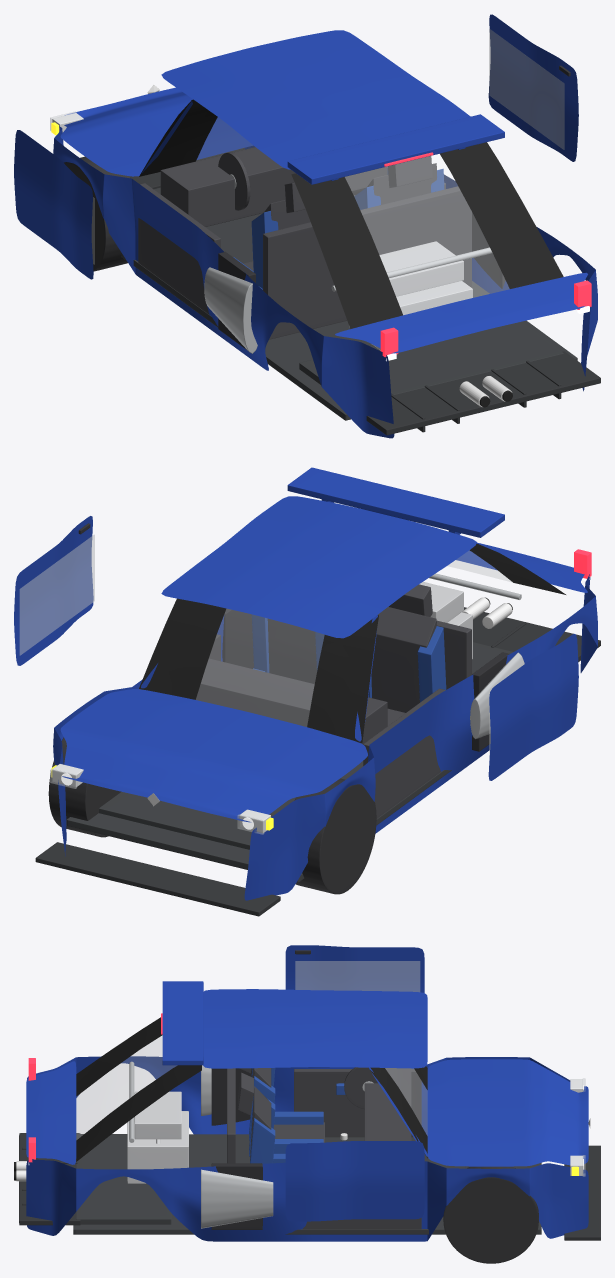
The model's file is Car_Renault_Clio_V6_Phase2_Complete.glb.
The picture shows the model from 3 angles, top to bottom: view 1: azimuth 30°, elevation 25°; view 2: azimuth 150°, elevation 25°; view 3: azimuth 270°, elevation 25°; orthographic projection. The views are drawn at different scales.
Visible parts, largest first — view 1: BODY_ClioV6_Unibody, GLASS_ClioV6_Greenhouse, INTERIOR_ClioV6_Cockpit, CHASSIS_ClioV6_Platform_Subframe, DOOR_FL_ClioV6, AERO_ClioV6_DiffusersAndSplitters, DOOR_FR_ClioV6, AERO_ClioV6_RoofSpoiler, DOOR_FL_ClioV6_WindowGlass, POWERTRAIN_ClioV6_30L_V6, DOOR_FR_ClioV6_InnerCard, LIGHTING_ClioV6_OpticsAndJewelry (+2 smaller); view 2: BODY_ClioV6_Unibody, GLASS_ClioV6_Greenhouse, INTERIOR_ClioV6_Cockpit, CHASSIS_ClioV6_Platform_Subframe, DOOR_FR_ClioV6, AERO_ClioV6_DiffusersAndSplitters, DOOR_FL_ClioV6, AERO_ClioV6_RoofSpoiler, WHEEL_RL_OZSuperturismo, DOOR_FL_ClioV6_WindowGlass, DOOR_FR_ClioV6_InnerCard, LIGHTING_ClioV6_OpticsAndJewelry (+2 smaller); view 3: BODY_ClioV6_Unibody, DOOR_FL_ClioV6, GLASS_ClioV6_Greenhouse, CHASSIS_ClioV6_Platform_Subframe, INTERIOR_ClioV6_Cockpit, WHEEL_RR_OZSuperturismo, DOOR_FR_ClioV6, POWERTRAIN_ClioV6_30L_V6, DOOR_FR_ClioV6_InnerCard, DOOR_FR_ClioV6_WindowGlass, AERO_ClioV6_RoofSpoiler, AERO_ClioV6_DiffusersAndSplitters (+3 smaller).
Part boxes in pixels (x1,y1,x2,y2): BODY_ClioV6_Unibody: [53, 30, 597, 438]; GLASS_ClioV6_Greenhouse: [139, 99, 563, 328]; INTERIOR_ClioV6_Cockpit: [160, 147, 471, 339]; CHASSIS_ClioV6_Platform_Subframe: [121, 187, 577, 420]; DOOR_FL_ClioV6: [488, 14, 578, 161]; AERO_ClioV6_DiffusersAndSplitters: [129, 148, 600, 435]; DOOR_FR_ClioV6: [14, 130, 93, 279]; AERO_ClioV6_RoofSpoiler: [287, 114, 504, 184]; DOOR_FL_ClioV6_WindowGlass: [489, 29, 564, 149]; POWERTRAIN_ClioV6_30L_V6: [331, 241, 492, 350]; DOOR_FR_ClioV6_InnerCard: [138, 183, 220, 314]; LIGHTING_ClioV6_OpticsAndJewelry: [50, 84, 591, 407]; BODY_ClioV6_Unibody: [53, 496, 597, 900]; GLASS_ClioV6_Greenhouse: [139, 543, 565, 742]; INTERIOR_ClioV6_Cockpit: [195, 584, 471, 744]; CHASSIS_ClioV6_Platform_Subframe: [66, 642, 512, 882]; DOOR_FR_ClioV6: [488, 634, 578, 780]; AERO_ClioV6_DiffusersAndSplitters: [35, 607, 600, 916]; DOOR_FL_ClioV6: [14, 516, 93, 665]; AERO_ClioV6_RoofSpoiler: [287, 467, 504, 537]; WHEEL_RL_OZSuperturismo: [294, 778, 376, 894]; DOOR_FL_ClioV6_WindowGlass: [19, 534, 94, 655]; DOOR_FR_ClioV6_InnerCard: [363, 688, 445, 818]; LIGHTING_ClioV6_OpticsAndJewelry: [50, 549, 591, 834]; BODY_ClioV6_Unibody: [26, 989, 588, 1241]; DOOR_FL_ClioV6: [285, 1141, 424, 1221]; GLASS_ClioV6_Greenhouse: [76, 1017, 427, 1161]; CHASSIS_ClioV6_Platform_Subframe: [73, 1134, 541, 1234]; INTERIOR_ClioV6_Cockpit: [227, 1068, 411, 1163]; WHEEL_RR_OZSuperturismo: [443, 1166, 538, 1263]; DOOR_FR_ClioV6: [285, 945, 424, 992]; POWERTRAIN_ClioV6_30L_V6: [127, 1061, 188, 1183]; DOOR_FR_ClioV6_InnerCard: [294, 1069, 421, 1137]; DOOR_FR_ClioV6_WindowGlass: [295, 961, 420, 992]; AERO_ClioV6_RoofSpoiler: [161, 981, 203, 1065]; AERO_ClioV6_DiffusersAndSplitters: [19, 1133, 600, 1240].
Size of what is drawn, in the model's own units: 3.23 by 1.41 by 4.01.
